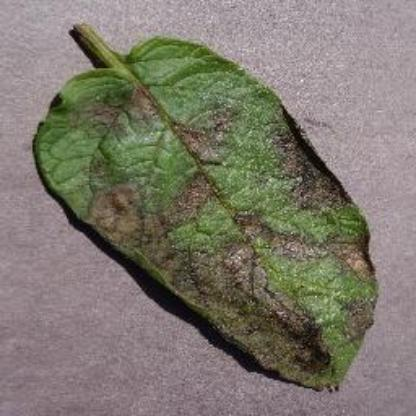Late-Blight: (38, 26, 386, 413)
